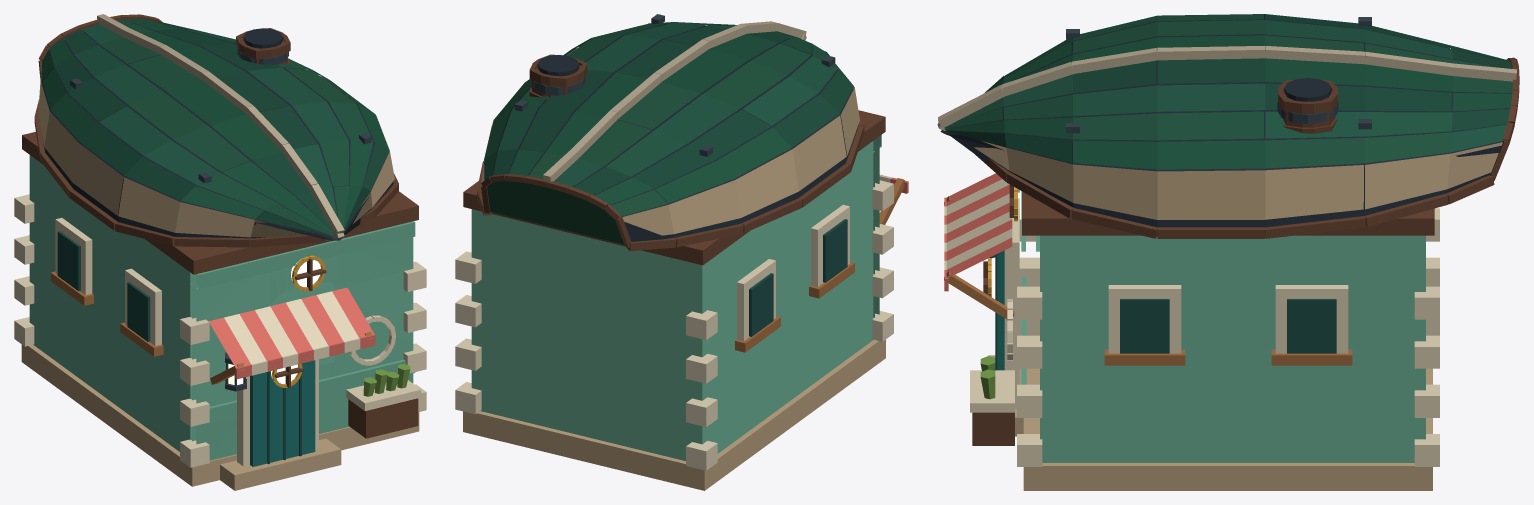
Rendered from net-loft-small-mint.glb.
3 renders of one model, left to right at view 1: azimuth 30°, elevation 25°; view 2: azimuth 150°, elevation 25°; view 3: azimuth 270°, elevation 25°, orthographic. The views are drawn at different scales.
Visible parts, largest first — view 1: net-loft-small-mint; view 2: net-loft-small-mint; view 3: net-loft-small-mint.
Boxes of the visible parts, x1,y1,x2,y2 form: net-loft-small-mint: (14,14,426,490); net-loft-small-mint: (455,14,908,490); net-loft-small-mint: (937,14,1519,490).
Size of the model in its own units: 3.27 by 3.65 by 5.05.
